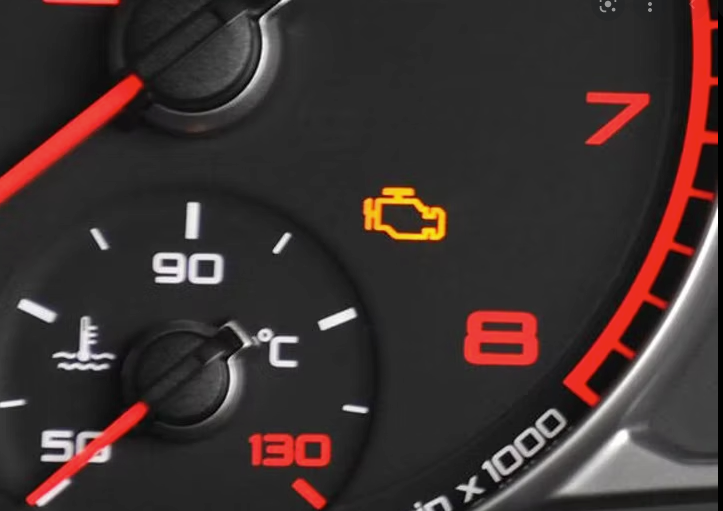Engine_emissions: (358, 181, 450, 247)
